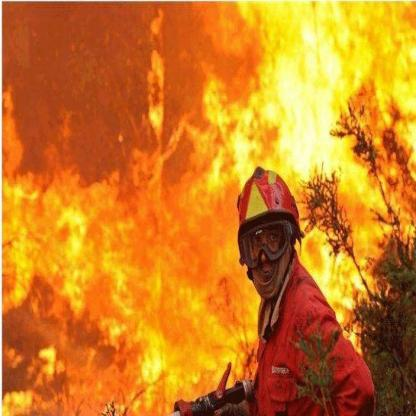fire: (5, 2, 407, 399)
